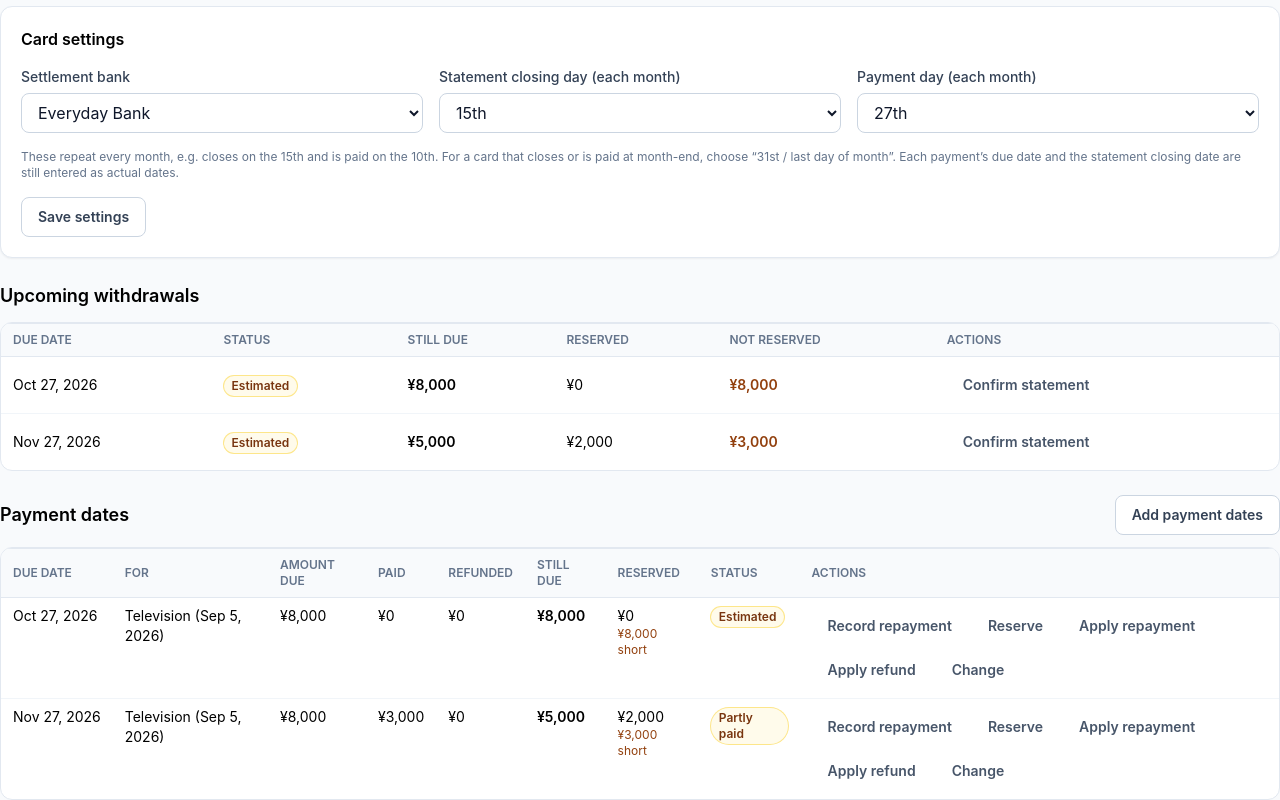
Test: records a repayment as a movement and links it to the payment date
(page scrolled)
Click the button named "Record repayment for Oct 27, 2026": (890, 626) x1=812 y1=606 x2=968 y2=646
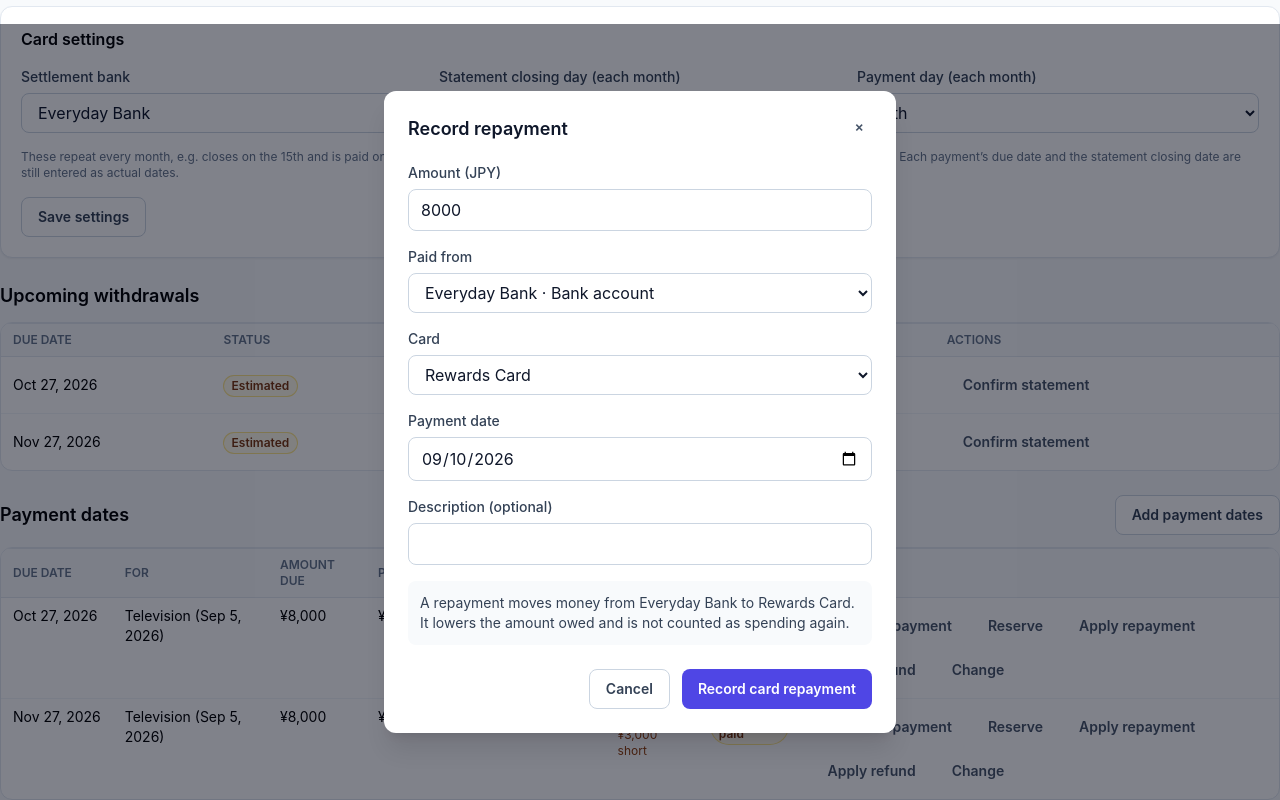
Now the dropdown labelled "Paid from" shows "Everyday Bank · Bank account", box x1=408 y1=273 x2=872 y2=313
Now the dropdown labelled "Card" shows "Rewards Card", box x1=408 y1=355 x2=872 y2=395
Now the field labelled "Amount (JPY)" holds "8000", box x1=408 y1=189 x2=872 y2=231
Click the button "Record card repayment": (777, 689) x1=682 y1=669 x2=872 y2=709
(page scrolled)
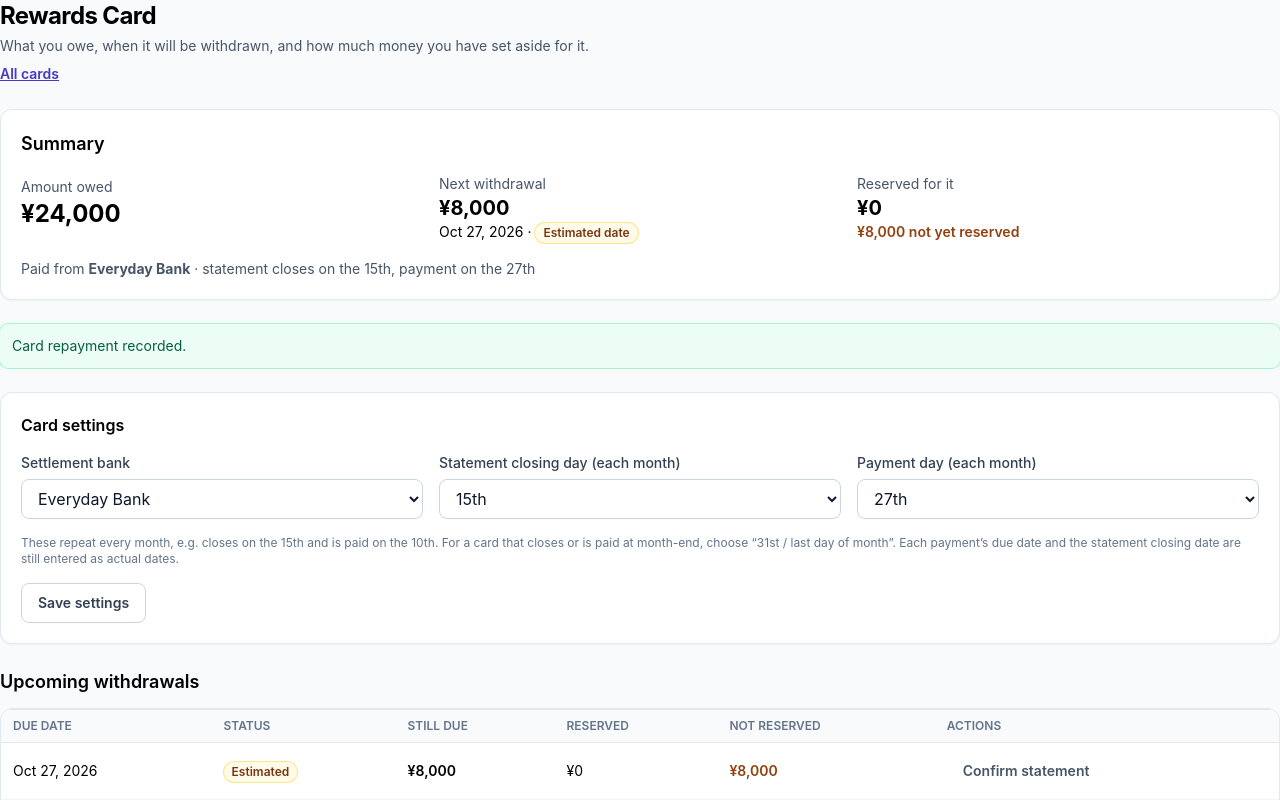
Now the text "Card repayment recorded." is shown, box x1=0 y1=324 x2=1279 y2=368
